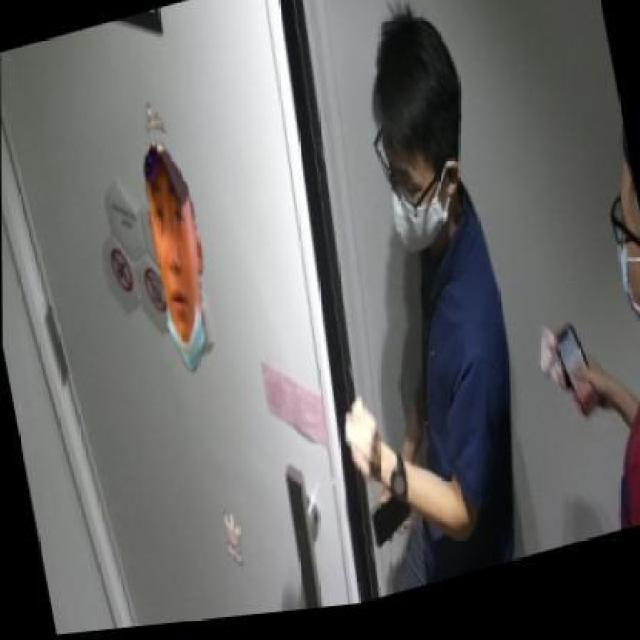hairnet: (148, 163, 206, 366)
